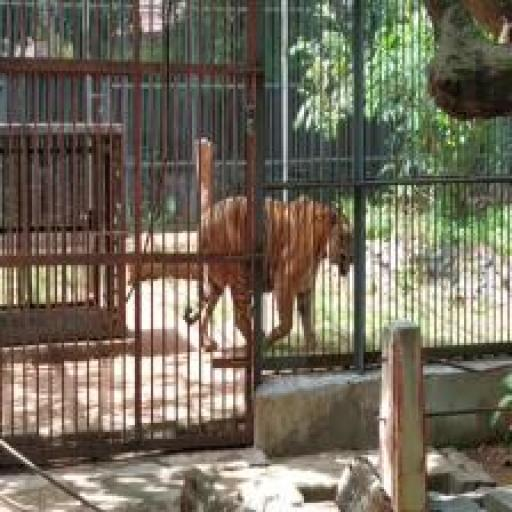Tiger: (160, 174, 377, 383)
